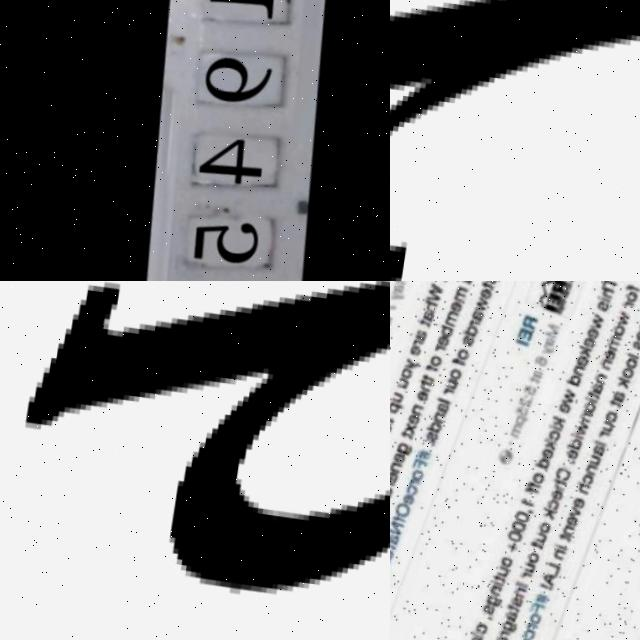0: (511, 515, 528, 530), (507, 525, 525, 539), (515, 506, 532, 520)
1: (191, 0, 291, 23), (521, 491, 538, 503)
2: (518, 392, 533, 406)
4: (183, 121, 281, 191)
5: (178, 203, 276, 270), (523, 379, 539, 393), (515, 400, 531, 414)
6: (533, 350, 549, 365)
7: (390, 296, 397, 310)
9: (192, 40, 285, 110)
B: (27, 281, 390, 591)
R: (390, 0, 640, 281)
